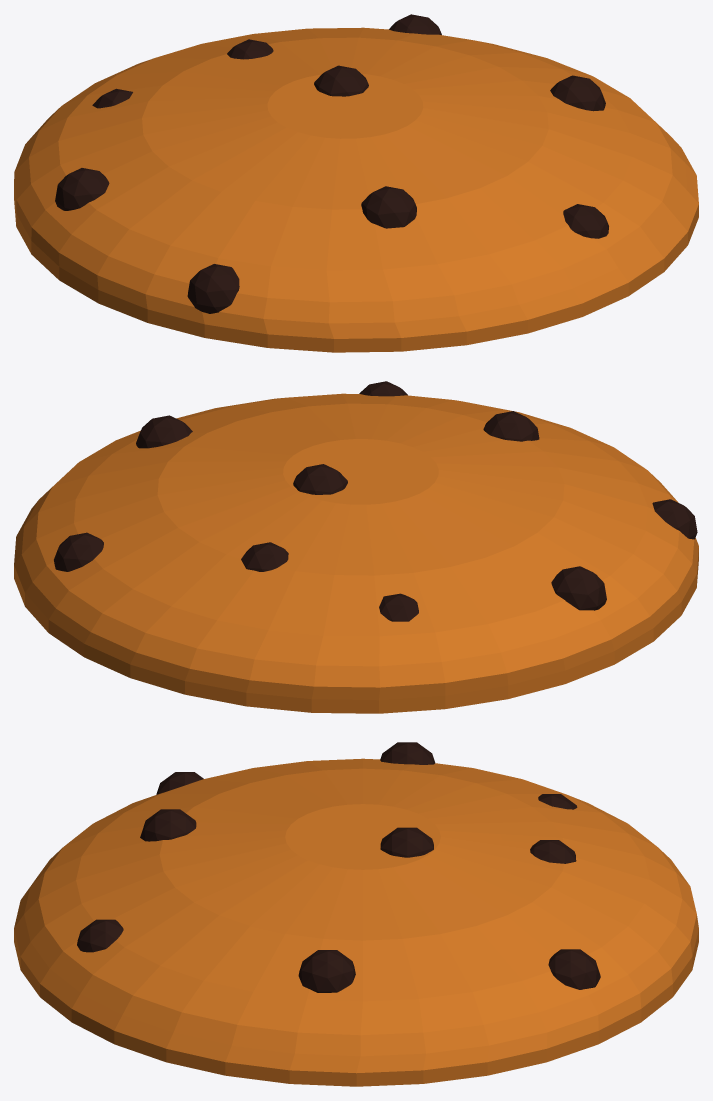
File: cookieFinal.fbx
The picture shows the model from 3 angles, top to bottom: view 1: azimuth 30°, elevation 25°; view 2: azimuth 150°, elevation 25°; view 3: azimuth 270°, elevation 25°; orthographic projection.
Visible parts, largest first — view 1: Circle, Icosphere.006, Icosphere.005, Icosphere.003, Icosphere, Icosphere.002, Icosphere.007, Icosphere.001, Icosphere.008; view 2: Circle, Icosphere.003, Icosphere.001, Icosphere, Icosphere.002, Icosphere.005, Icosphere.008, Icosphere.006, Icosphere.004, Icosphere.007; view 3: Circle, Icosphere, Icosphere.001, Icosphere.005, Icosphere.002, Icosphere.007, Icosphere.003, Icosphere.008, Icosphere.006.
Boxes of the visible parts, box(x1,y1,x2,y2) form: Circle: box(14, 27, 698, 352); Icosphere.006: box(187, 264, 239, 313); Icosphere.005: box(361, 186, 416, 228); Icosphere.003: box(55, 168, 109, 210); Icosphere: box(550, 75, 605, 111); Icosphere.002: box(314, 65, 368, 96); Icosphere.007: box(563, 204, 608, 238); Icosphere.001: box(389, 14, 441, 34); Icosphere.008: box(227, 39, 273, 59); Circle: box(14, 393, 698, 713); Icosphere.003: box(551, 566, 606, 610); Icosphere.001: box(54, 532, 103, 571); Icosphere: box(136, 415, 192, 448); Icosphere.002: box(293, 464, 347, 494); Icosphere.005: box(483, 411, 539, 441); Icosphere.008: box(241, 542, 288, 571); Icosphere.006: box(652, 499, 697, 539); Icosphere.004: box(379, 593, 418, 621); Icosphere.007: box(359, 381, 407, 396); Circle: box(14, 758, 698, 1086); Icosphere: box(298, 950, 355, 992); Icosphere.001: box(548, 949, 600, 989); Icosphere.005: box(140, 809, 196, 841); Icosphere.002: box(380, 827, 433, 857); Icosphere.007: box(77, 919, 123, 952); Icosphere.003: box(380, 742, 435, 764); Icosphere.008: box(530, 840, 576, 863); Icosphere.006: box(156, 772, 203, 794).
Bounding box in the file's own units: 200 × 38.12 × 200.
